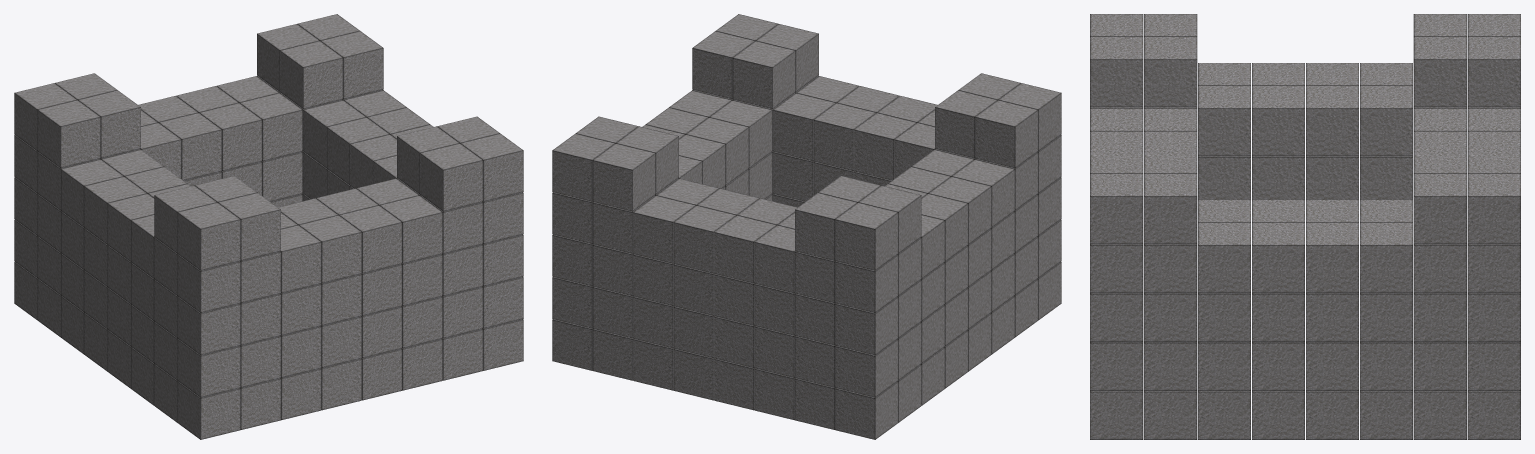
The model's file is Castle_200.dae.
The picture shows the model from 3 angles, left to right: view 1: azimuth 30°, elevation 25°; view 2: azimuth 150°, elevation 25°; view 3: azimuth 270°, elevation 25°; orthographic projection. The views are drawn at different scales.
Parts seen in each view (by area): view 1: polySurface1692, polySurface1694, polySurface1614, polySurface1616, polySurface1672, polySurface1696, polySurface1689, polySurface1681, polySurface1643, polySurface1645, polySurface1747, polySurface1639 (+85 smaller); view 2: polySurface1693, polySurface1695, polySurface1617, polySurface1615, polySurface1717, polySurface1680, polySurface1671, polySurface1688, polySurface1646, polySurface1644, polySurface1750, polySurface1640 (+85 smaller); view 3: polySurface1588, polySurface1589, polySurface1590, polySurface1591, polySurface1718, polySurface1719, polySurface1720, polySurface1721, polySurface1594, polySurface1595, polySurface1596, polySurface1597 (+60 smaller).
Part boxes in pixels (<box>): polySurface1692: <box>177,202,240,270</box>; polySurface1694: <box>37,100,100,168</box>; polySurface1614: <box>420,143,483,211</box>; polySurface1616: <box>280,41,343,108</box>; polySurface1672: <box>177,381,240,439</box>; polySurface1696: <box>177,254,240,312</box>; polySurface1689: <box>177,339,240,397</box>; polySurface1681: <box>177,297,240,355</box>; polySurface1643: <box>339,205,402,273</box>; polySurface1645: <box>199,103,262,170</box>; polySurface1747: <box>299,215,361,283</box>; polySurface1639: <box>380,195,442,263</box>; polySurface1693: <box>975,100,1038,168</box>; polySurface1695: <box>835,202,898,270</box>; polySurface1617: <box>592,143,655,211</box>; polySurface1615: <box>732,41,795,108</box>; polySurface1717: <box>835,381,898,439</box>; polySurface1680: <box>835,254,898,312</box>; polySurface1671: <box>835,339,898,397</box>; polySurface1688: <box>835,297,898,355</box>; polySurface1646: <box>673,205,736,273</box>; polySurface1644: <box>813,103,876,170</box>; polySurface1750: <box>714,215,776,283</box>; polySurface1640: <box>773,93,835,161</box>; polySurface1588: <box>1090,173,1143,244</box>; polySurface1589: <box>1144,173,1197,244</box>; polySurface1590: <box>1413,173,1466,244</box>; polySurface1591: <box>1467,173,1520,244</box>; polySurface1718: <box>1090,36,1143,107</box>; polySurface1719: <box>1144,36,1197,107</box>; polySurface1720: <box>1413,36,1466,107</box>; polySurface1721: <box>1467,36,1520,107</box>; polySurface1594: <box>1198,222,1250,293</box>; polySurface1595: <box>1252,222,1304,293</box>; polySurface1596: <box>1306,222,1358,293</box>; polySurface1597: <box>1360,222,1412,293</box>.
Size of the model in its own units: 47.94 by 29.91 by 47.91.
